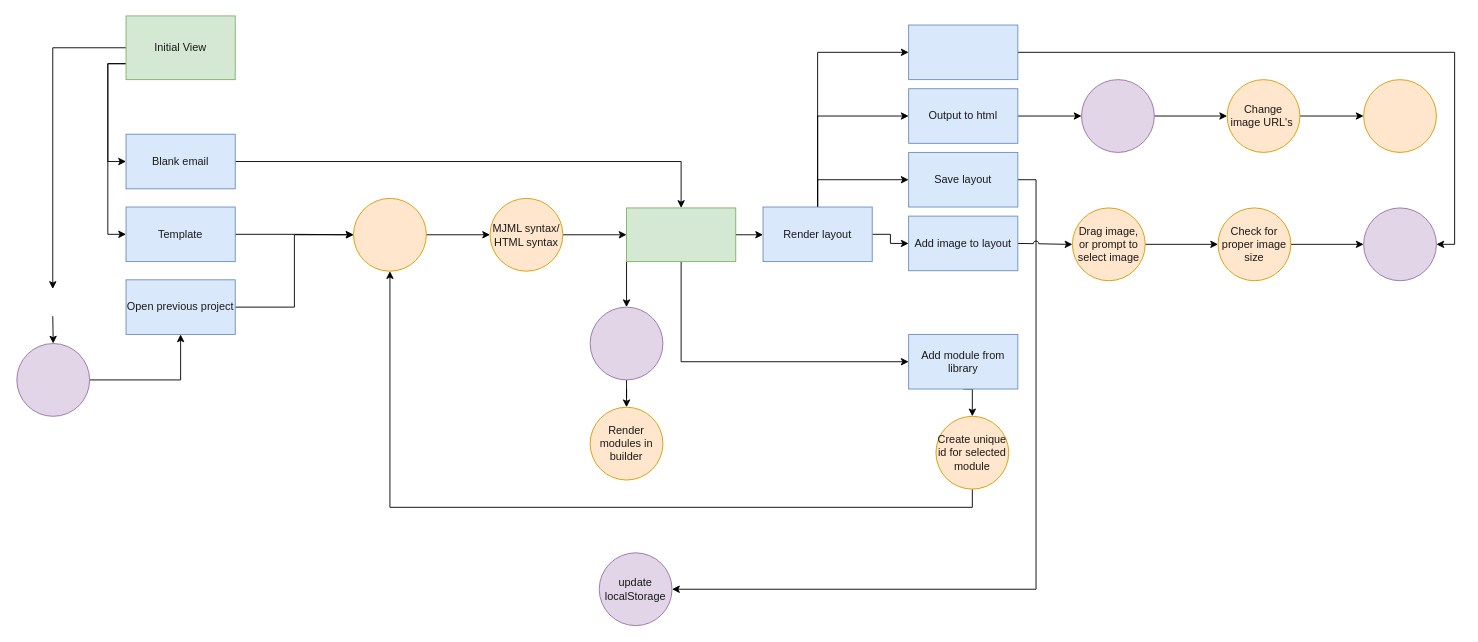
The diagram is 1478 pixels wide and 642 high, and some of its shapes have lost their labels. Here are the shapes that lost their labels. From the top down, the centre of each, then its label:
At (x=963, y=52): "Fetch images".
At (x=1117, y=115): "MJML API".
At (x=1399, y=115): "download HTML file to client".
At (x=389, y=234): "update state".
At (x=681, y=234): "Builder view".
At (x=1399, y=244): "imagekit API".
At (x=626, y=343): "Load modules from library".
At (x=53, y=379): "read localStorage".
